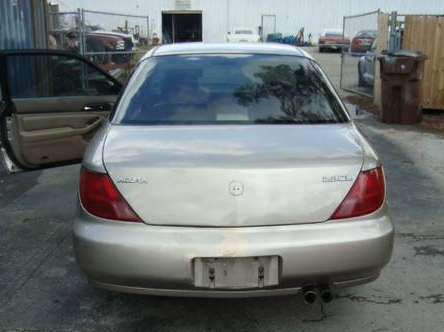acura: (70, 40, 399, 306)
